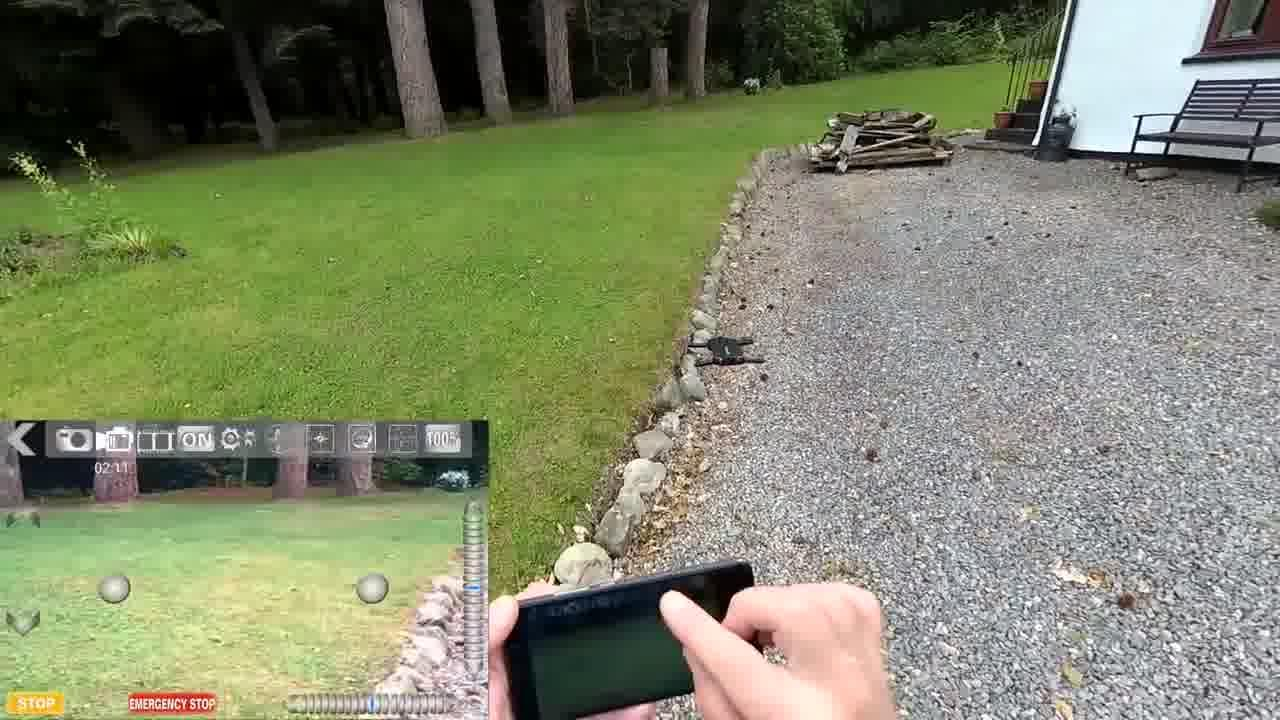drone: (688, 327, 763, 367)
